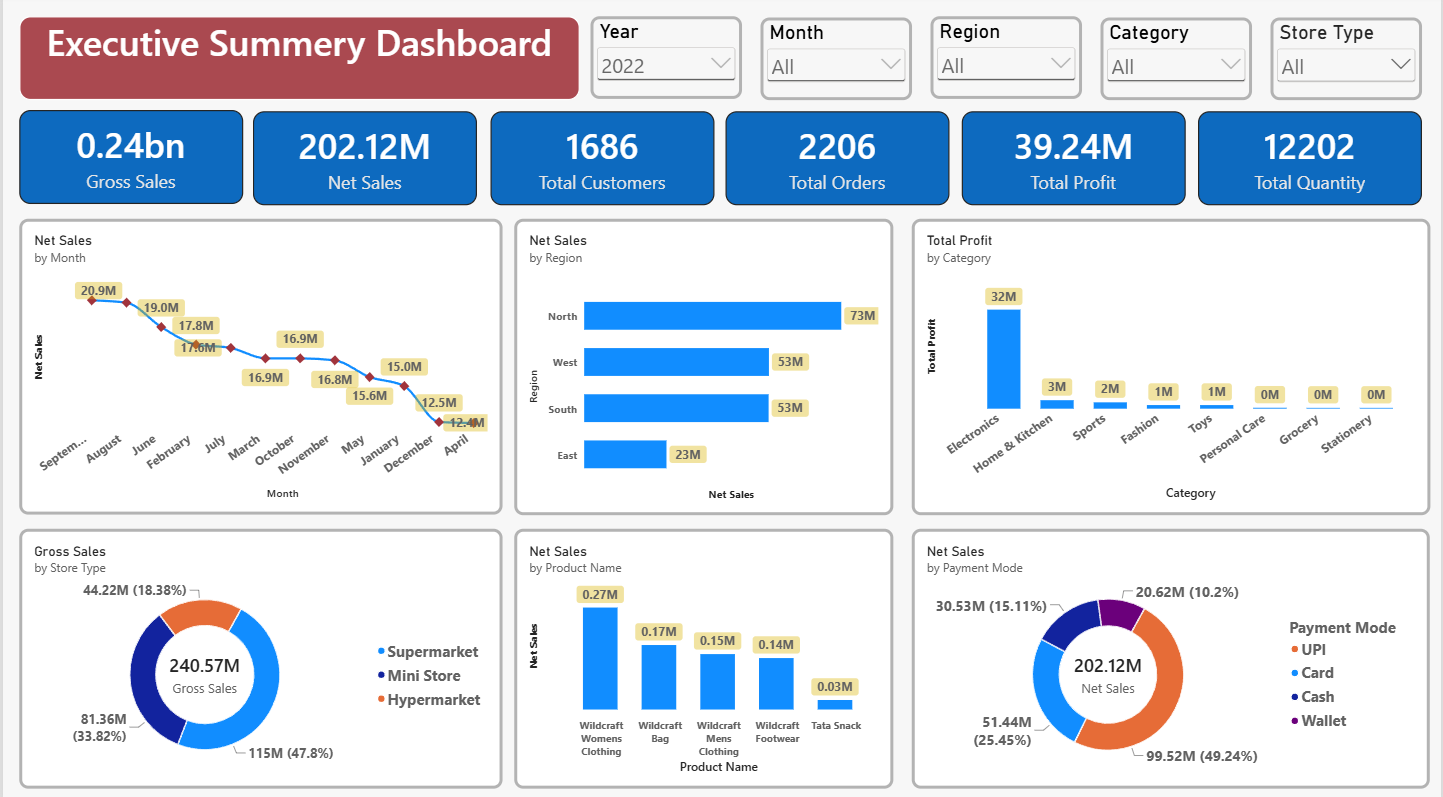

The dashboard page shown, as its layout file describes it:
{"tool":"powerbi","page":{"name":"Page 1","canvas":[1920,1080],"ordinal":0},"visuals":[{"type":"textbox","box":[21.7,29,749.2,112.2],"z":0},{"type":"slicer","fields":{"Values":["Customers.Region"]},"box":[1239.7,29.5,202.5,110.4],"z":1000,"group":"g1"},{"type":"cardVisual","fields":{"Data":["Measures Table.Gross Sales"]},"box":[21.7,153.8,299.6,125.2],"z":1000},{"type":"slicer","fields":{"Values":["Products.Category"]},"box":[1466.8,30.8,202.5,110.4],"z":2000,"group":"g1"},{"type":"cardVisual","fields":{"Data":["Measures Table.Total Customers"]},"box":[650.7,155.1,299.6,125.2],"z":2000},{"type":"slicer","fields":{"Values":["DateTable.Year"]},"box":[785.4,29,202.5,110.4],"z":3000,"group":"g1"},{"type":"cardVisual","fields":{"Data":["Measures Table.Total Orders"]},"box":[964.8,155.1,299.6,125.2],"z":3000},{"type":"slicer","fields":{"Values":["DateTable.Month"]},"box":[1012.5,30.4,202.5,110.4],"z":4000,"group":"g1"},{"type":"cardVisual","fields":{"Data":["Measures Table.Total Profit"]},"box":[1281.2,155.5,299.6,125.2],"z":4000},{"type":"slicer","fields":{"Values":["Stores.Store Type"]},"box":[1694,29.9,202.5,110.4],"z":5000,"group":"g1"},{"type":"cardVisual","fields":{"Data":["Measures Table.Total Quantity"]},"box":[1596.1,155.5,299.6,125.2],"z":5000},{"type":"group","id":"g1","title":"Group 1","box":[785.4,29,1111.1,112.2],"z":6000},{"type":"cardVisual","fields":{"Data":["Measures Table.Net Sales"]},"box":[334.8,155.6,299.6,125.2],"z":7000},{"type":"lineChart","title":" Net Sales ","fields":{"Category":["DateTable.Month"],"Y":["Sum(Sales.Net Sales)"]},"box":[21.3,298.6,645.7,395.6],"z":8000},{"type":"barChart","fields":{"Category":["Stores.Region"],"Y":["Measures Table.Net Sales"]},"box":[682.2,298.6,506.7,396.3],"z":8002},{"type":"columnChart","fields":{"Category":["Products.Category"],"Y":["Measures Table.Total Profit"]},"box":[1213.8,298.6,693.1,396.3],"z":8003},{"type":"donutChart","fields":{"Category":["Stores.Store Type"],"Y":["Measures Table.Gross Sales"]},"box":[21.3,713.6,645.7,347.1],"z":8004},{"type":"clusteredColumnChart","fields":{"Category":["Products.Product Name"],"Y":["Measures Table.Net Sales"]},"box":[682.5,713.6,506.1,347.1],"z":8005},{"type":"donutChart","fields":{"Category":["Sales.Payment Mode"],"Y":["Measures Table.Net Sales"]},"box":[1213.8,713.6,692.2,347.1],"z":8006}]}

Visuals, with their boxes in screenshot pixels (x1, y1, x2, y2), scaled from the page's 1920x1080 canvas onto the 1443x797 screenshot:
textbox: region(16, 21, 579, 104)
slicer - Customers.Region: region(932, 22, 1084, 103)
cardVisual - Measures Table.Gross Sales: region(16, 113, 241, 206)
slicer - Products.Category: region(1102, 23, 1255, 104)
cardVisual - Measures Table.Total Customers: region(489, 114, 714, 207)
slicer - DateTable.Year: region(590, 21, 742, 103)
cardVisual - Measures Table.Total Orders: region(725, 114, 950, 207)
slicer - DateTable.Month: region(761, 22, 913, 104)
cardVisual - Measures Table.Total Profit: region(963, 115, 1188, 207)
slicer - Stores.Store Type: region(1273, 22, 1425, 104)
cardVisual - Measures Table.Total Quantity: region(1200, 115, 1425, 207)
"Group 1" group: region(590, 21, 1425, 104)
cardVisual - Measures Table.Net Sales: region(252, 115, 477, 207)
" Net Sales " lineChart: region(16, 220, 501, 512)
barChart - Stores.Region x Measures Table.Net Sales: region(513, 220, 894, 513)
columnChart - Products.Category x Measures Table.Total Profit: region(912, 220, 1433, 513)
donutChart - Stores.Store Type x Measures Table.Gross Sales: region(16, 527, 501, 783)
clusteredColumnChart - Products.Product Name x Measures Table.Net Sales: region(513, 527, 893, 783)
donutChart - Sales.Payment Mode x Measures Table.Net Sales: region(912, 527, 1432, 783)
